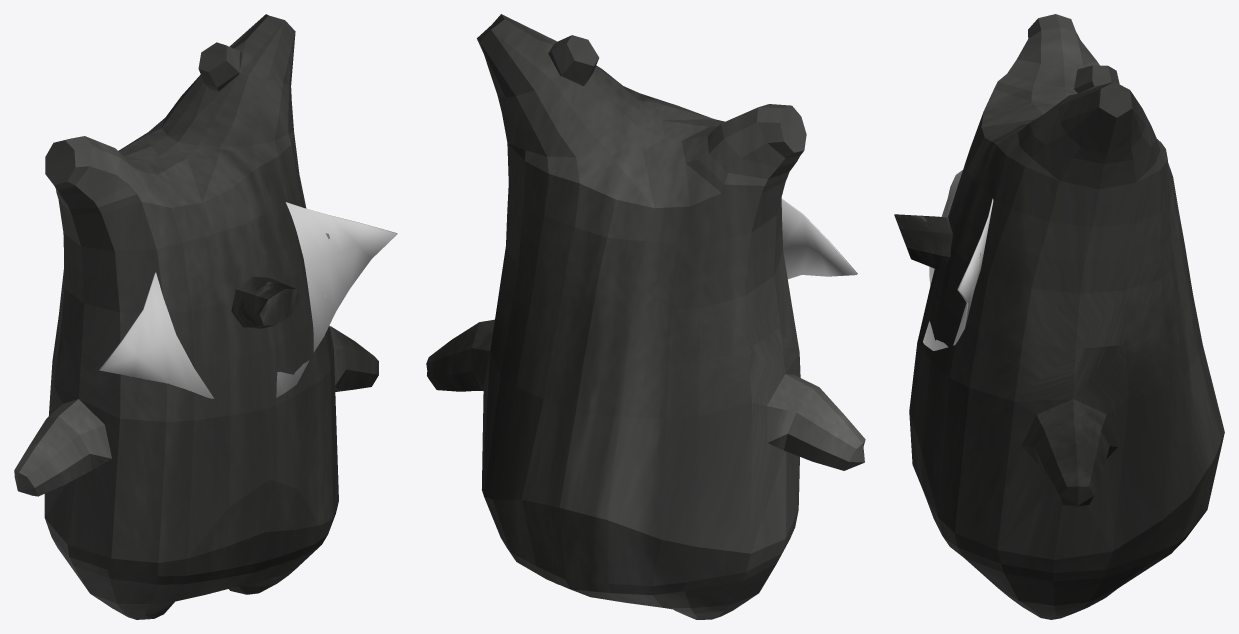
The model's file is frame_0065.obj.
The picture shows the model from 3 angles, left to right: view 1: azimuth 30°, elevation 25°; view 2: azimuth 150°, elevation 25°; view 3: azimuth 270°, elevation 25°; orthographic projection. The views are drawn at different scales.
Visible parts, largest first — view 1: korok, leaf, nose; view 2: korok, leaf; view 3: korok, nose, leaf.
Part boxes in pixels (bbox=[...]): korok: bbox=[14, 14, 378, 619]; leaf: bbox=[99, 202, 397, 398]; nose: bbox=[231, 276, 299, 328]; korok: bbox=[426, 14, 865, 619]; leaf: bbox=[781, 198, 857, 279]; korok: bbox=[909, 14, 1224, 619]; nose: bbox=[894, 214, 952, 270]; leaf: bbox=[923, 170, 993, 350].
Bounding box in the file's own units: 1.69 × 2.28 × 1.22.
